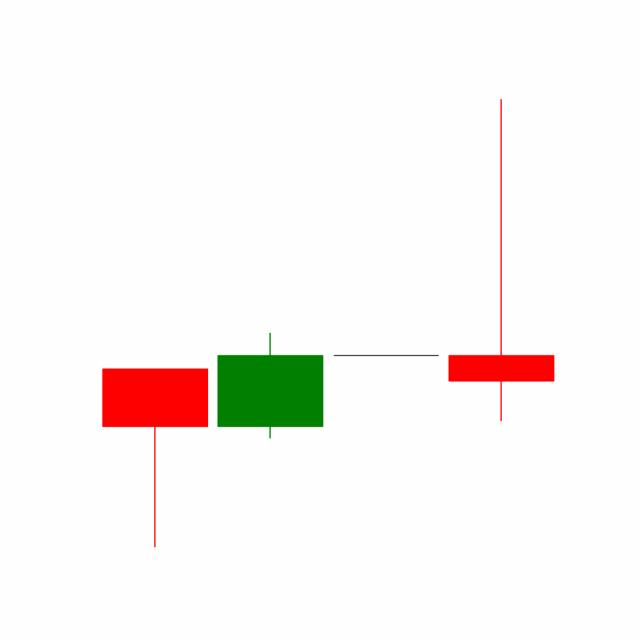Spinning Top: (443, 96, 559, 426)
